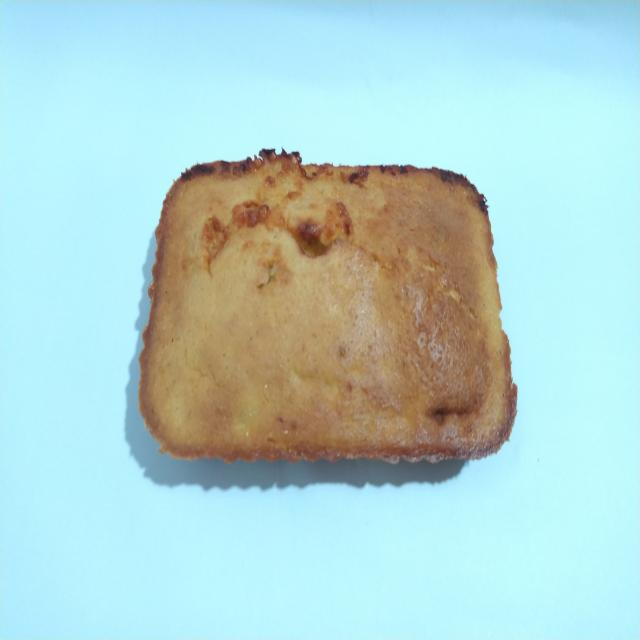Food: (134, 143, 526, 478)
